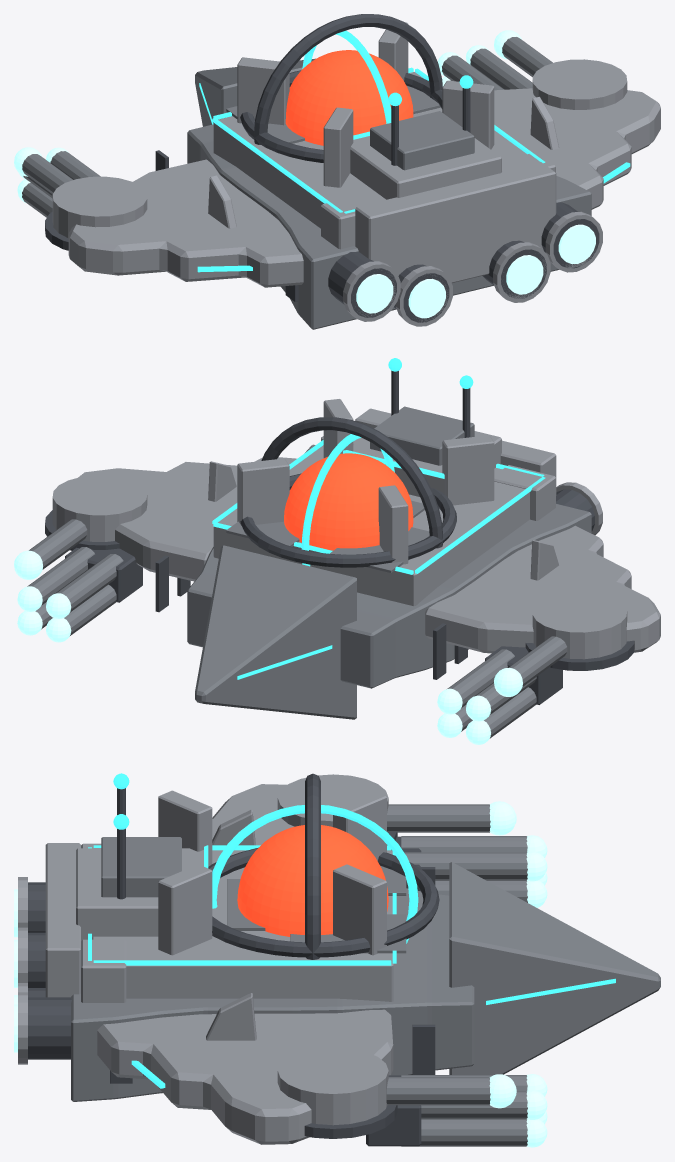
File: boss_battleship.glb
3 views of the same model, one above another, from view 1: azimuth 30°, elevation 25°; view 2: azimuth 150°, elevation 25°; view 3: azimuth 270°, elevation 25° (orthographic). The views are drawn at different scales.
Parts seen in each view (by area): view 1: WingL, RearBlock, WingR, Hull, Core, UpperDeck, Bridge, TurretBaseL, TurretBaseR, CoreRingB, BridgeCrown, CorePetal1 (+31 smaller); view 2: Prow, WingL, Hull, WingR, UpperDeck, Core, TurretBaseL, TurretBaseR, CoreRingB, CoreRingA, CorePetal2, BridgeCrown (+28 smaller); view 3: Prow, WingR, Hull, UpperDeck, Core, TurretBaseR, RearBlock, Bridge, CoreRingA, CorePetal3, CorePetal0, BridgeCrown (+31 smaller).
Part boxes in pixels (x1,y1,x2,y2): WingL: (68,159,303,287); RearBlock: (355,162,556,282); WingR: (494,88,660,209); Hull: (187,124,591,329); Core: (285,50,413,145); UpperDeck: (213,72,526,228); Bridge: (350,136,501,199); TurretBaseL: (52,176,147,238); TurretBaseR: (532,59,627,109); CoreRingB: (254,14,442,144); BridgeCrown: (370,111,474,170); CorePetal1: (237,57,289,125); Prow: (195,545,356,719); WingL: (425,525,660,653); Hull: (187,444,591,688); WingR: (78,457,296,581); UpperDeck: (213,445,529,606); Core: (284,453,413,550); TurretBaseL: (532,592,627,659); TurretBaseR: (52,475,147,541); CoreRingB: (261,417,442,548); CoreRingA: (240,473,456,567); CorePetal2: (442,435,494,505); BridgeCrown: (370,406,474,465); Prow: (449,862,660,1074); WingR: (97,1009,393,1144); Hull: (71,888,474,1101); UpperDeck: (92,850,393,1001); Core: (237,825,388,936); TurretBaseR: (277,1047,388,1125); RearBlock: (45,843,80,997); Bridge: (76,848,203,940); CoreRingA: (208,847,439,957); CorePetal3: (158,864,212,955); CorePetal0: (333,864,386,955); BridgeCrown: (101,837,181,897).
Bounding box in the file's own units: 15.49 × 6.13 × 12.83.
